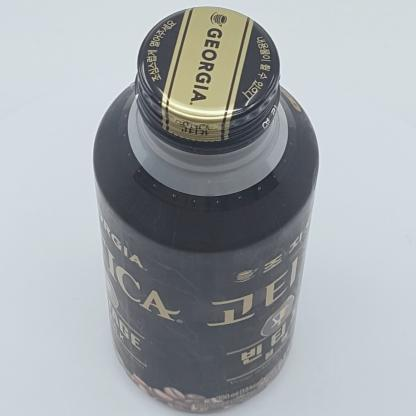-----------390ML: (92, 6, 319, 413)
